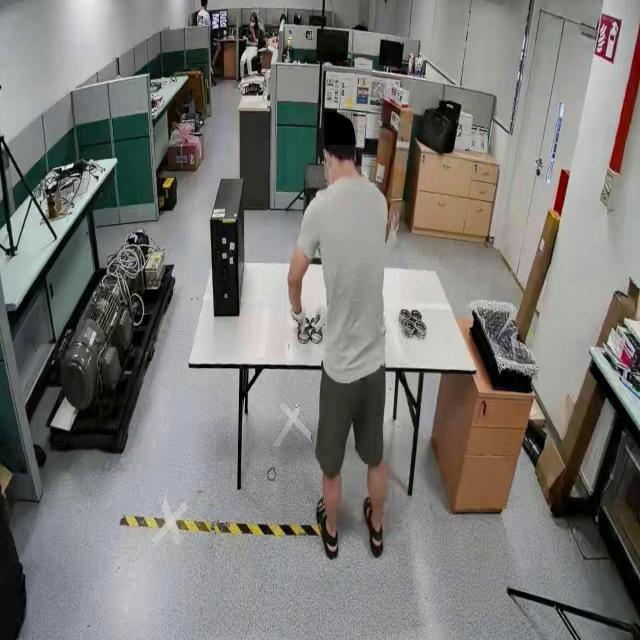head_nohelmet: (324, 112, 358, 146), (251, 10, 259, 18)
person: (287, 107, 399, 576), (238, 0, 270, 92)
